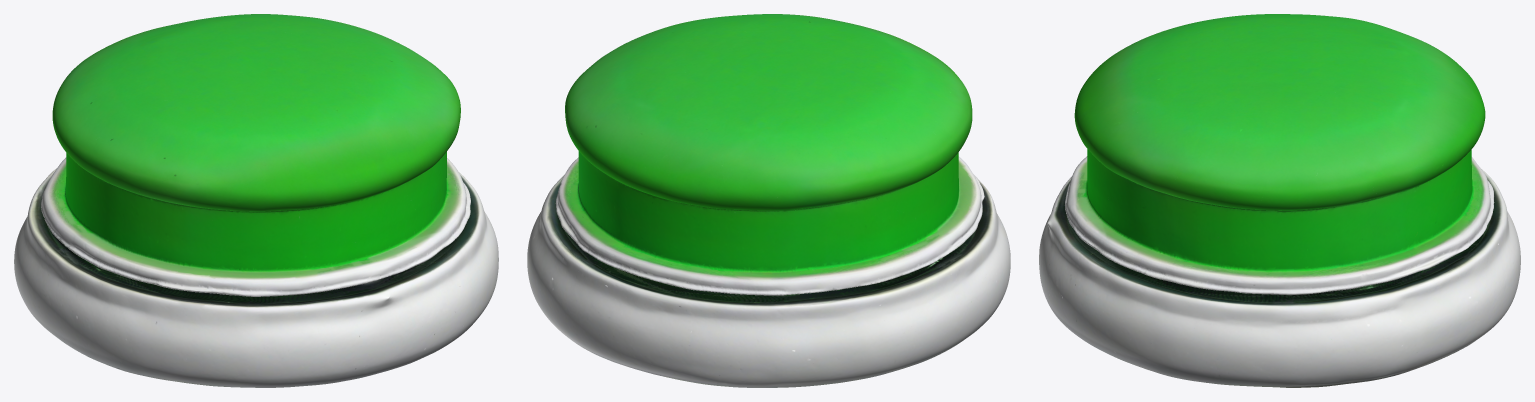
Rendered from Meshy_AI_bottone_amin_0409064529_texture.glb.
3 views of the same model, side by side, from view 1: azimuth 30°, elevation 25°; view 2: azimuth 150°, elevation 25°; view 3: azimuth 270°, elevation 25° (orthographic).
Size of the model in its own units: 2 by 1.06 by 2.
1 material, 1 textured.
